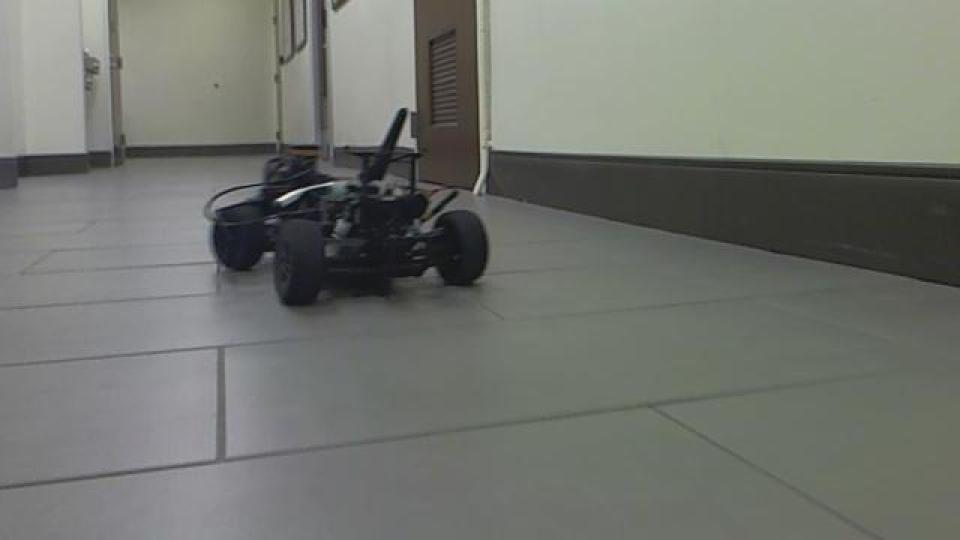car: (201, 105, 492, 309)
